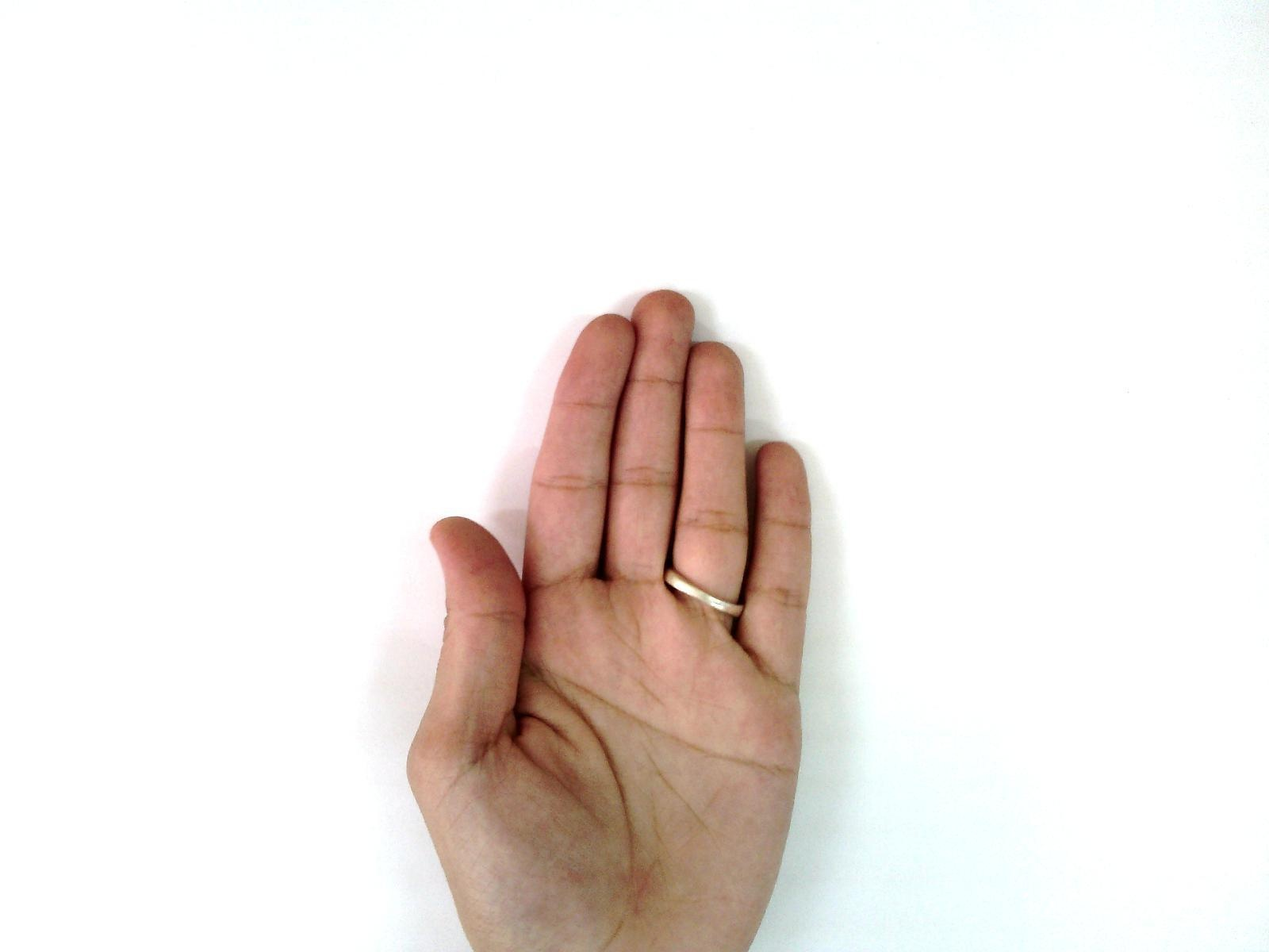open_palm: (404, 289, 816, 951)
